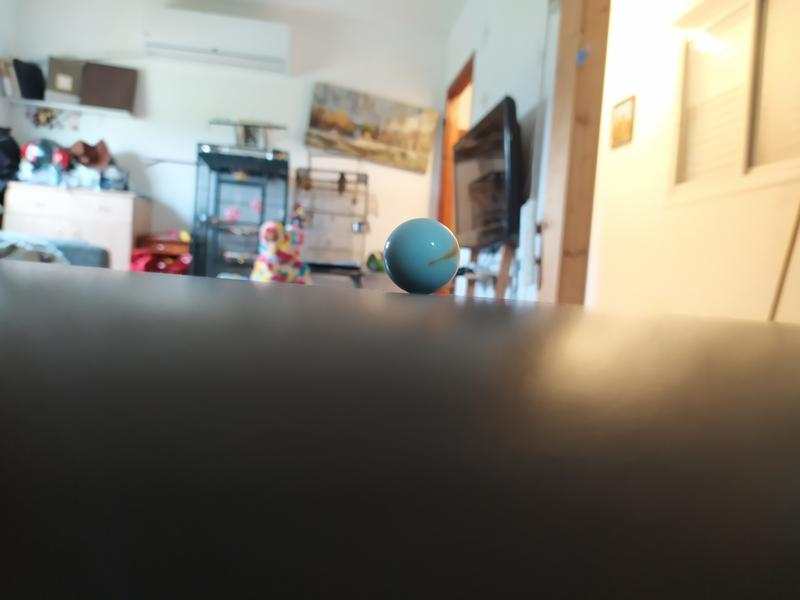Warning: (380, 216, 461, 298)
